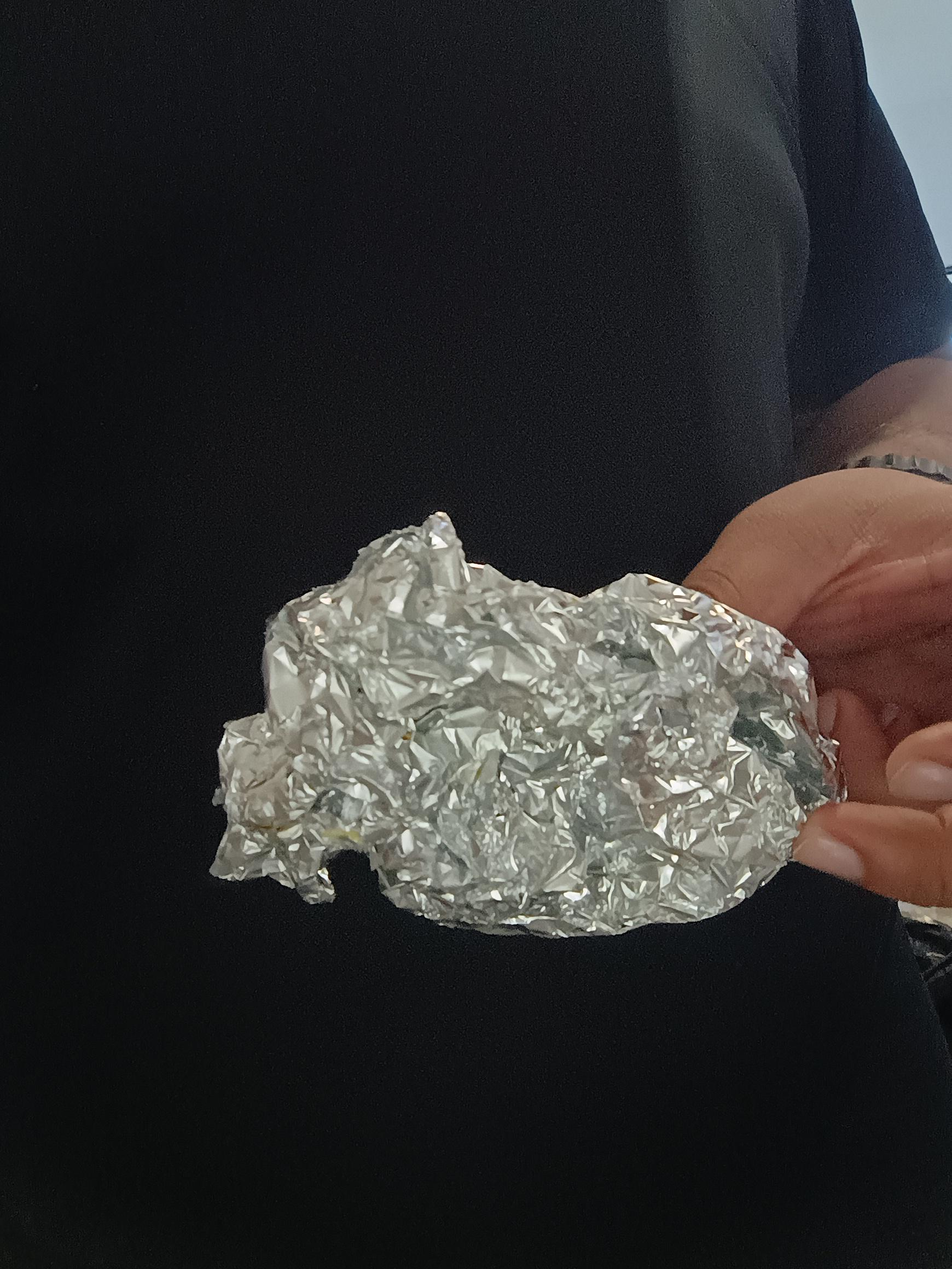Ordinario: (209, 510, 844, 942)
